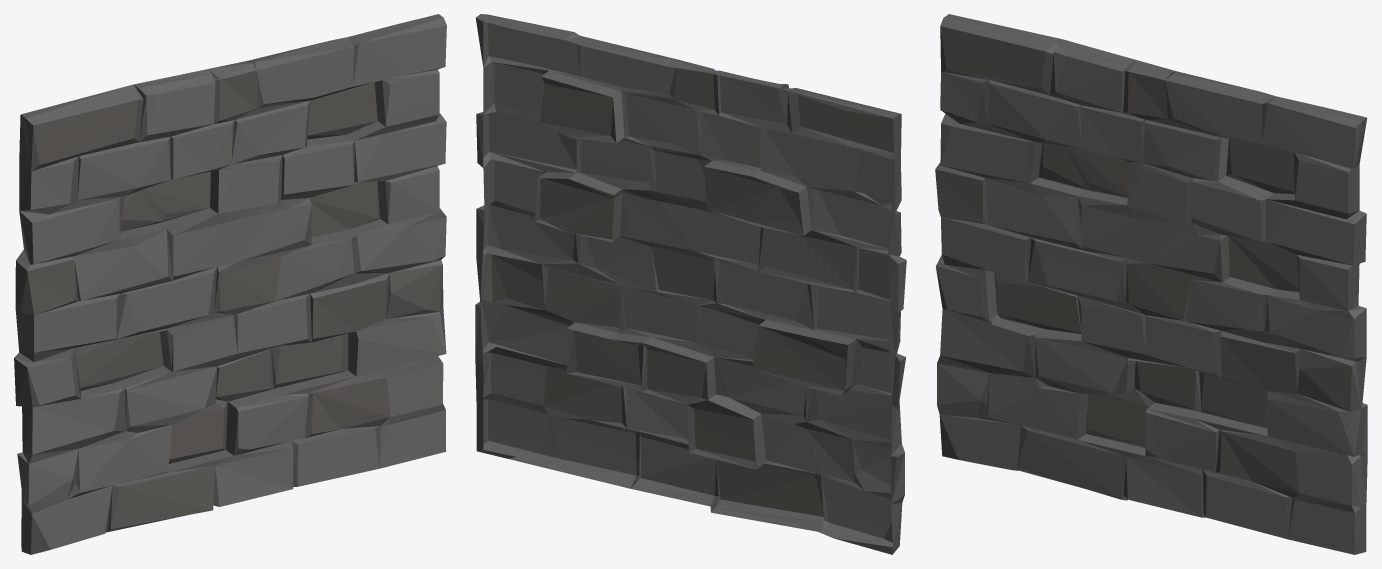
The model's file is SM_Env_Wall_Culled_04.glb.
3 views of the same model, side by side, from view 1: azimuth 30°, elevation 25°; view 2: azimuth 150°, elevation 25°; view 3: azimuth 330°, elevation 25° (orthographic).
Parts seen in each view (by area): view 1: SM_Env_Wall_Culled_04; view 2: SM_Env_Wall_Culled_04; view 3: SM_Env_Wall_Culled_04.
Boxes of the visible parts, <box> form: SM_Env_Wall_Culled_04: <box>14,14,446,554</box>; SM_Env_Wall_Culled_04: <box>475,14,906,554</box>; SM_Env_Wall_Culled_04: <box>935,14,1367,554</box>.
Size of the model in its own units: 0.0518 by 0.0513 by 0.00249.
Materials: 1 (1 with a texture image).
